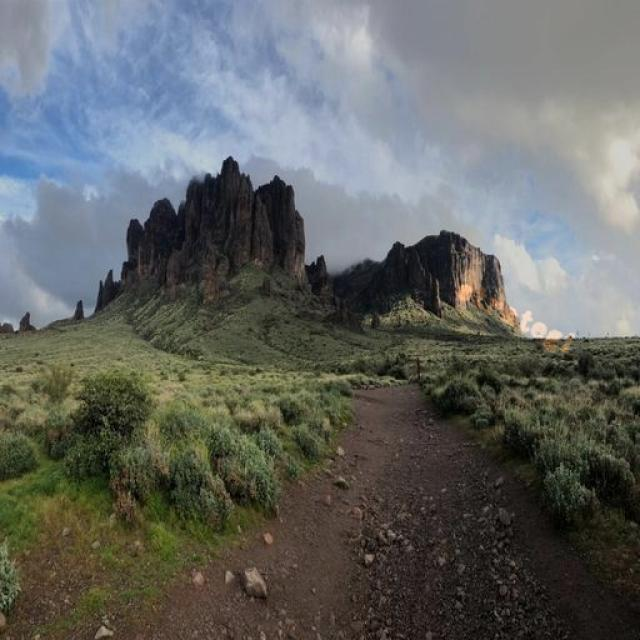watermark: (447, 274, 589, 358)
